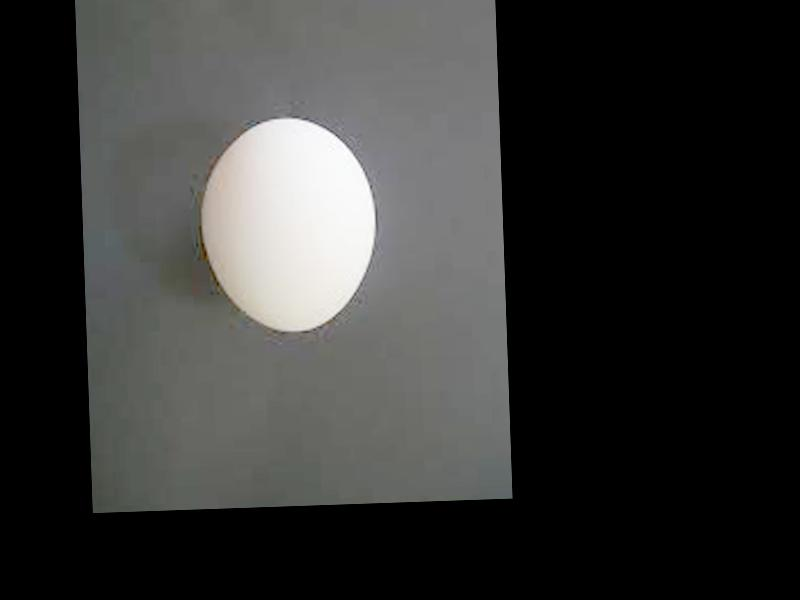Eggs: (200, 120, 378, 336)
